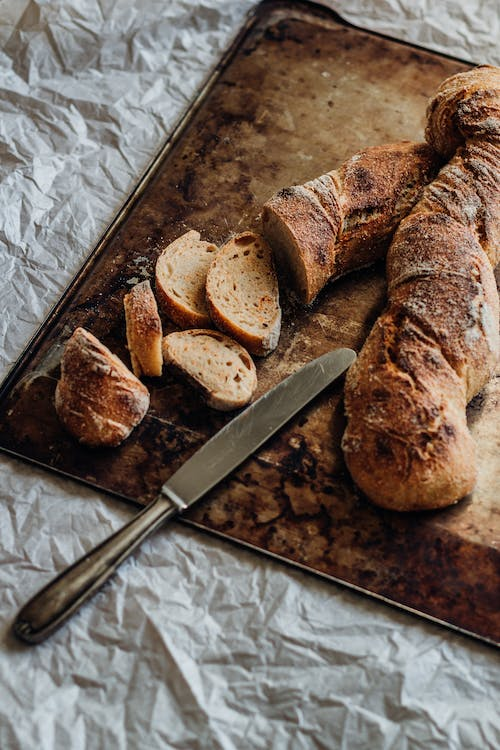knife: (8, 341, 360, 646)
